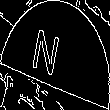N_S: (38, 24, 72, 86)
